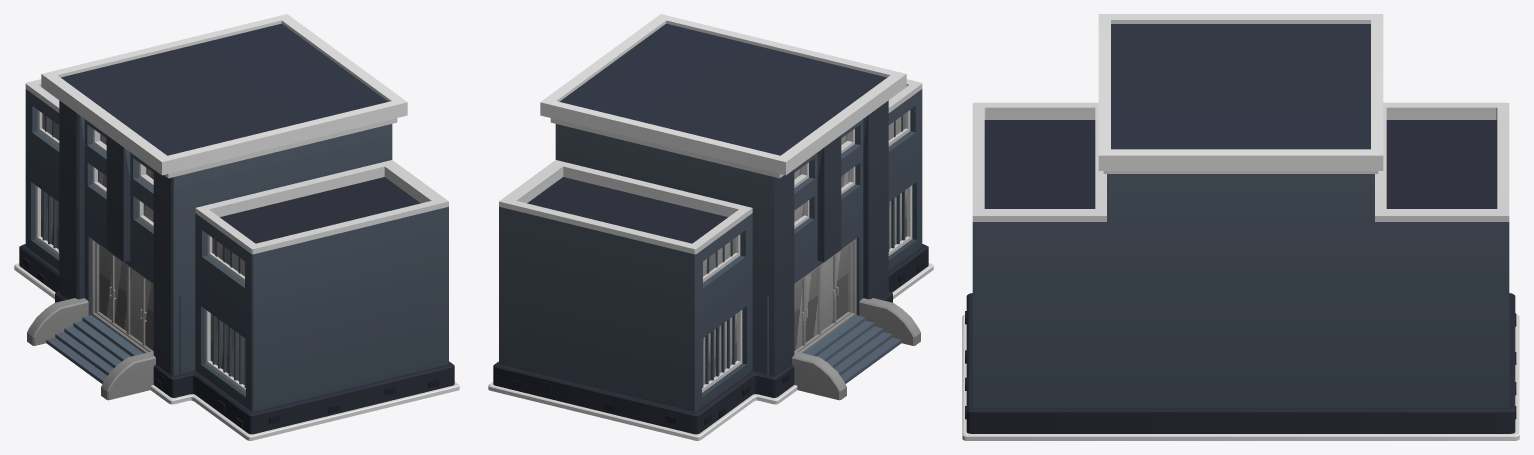
The model's file is Building_14_I.fbx.
3 renders of one model, left to right at view 1: azimuth 30°, elevation 25°; view 2: azimuth 150°, elevation 25°; view 3: azimuth 270°, elevation 25°, orthographic. The views are drawn at different scales.
Parts seen in each view (by area): view 1: Building_14_I; view 2: Building_14_I; view 3: Building_14_I.
Boxes of the visible parts, x1=… form: Building_14_I: x1=14, y1=14, x2=459, y2=440; Building_14_I: x1=488, y1=14, x2=933, y2=440; Building_14_I: x1=962, y1=14, x2=1519, y2=440.
Size of the model in its own units: 908 by 755 by 1325.
